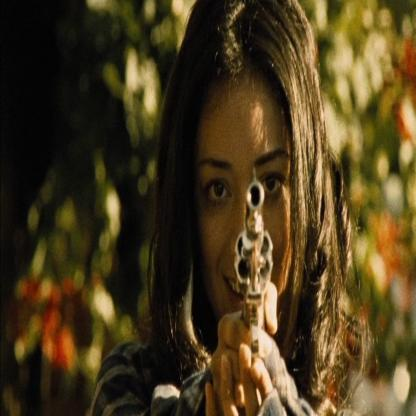gun: (230, 166, 280, 367)
